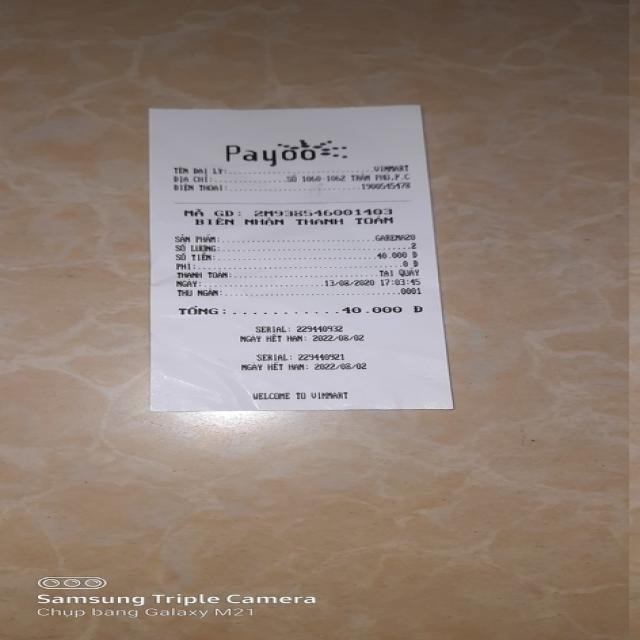Date: (322, 279, 377, 287)
Store_Name: (215, 141, 328, 168)
amount_number: (339, 304, 404, 314)
label_total: (174, 305, 220, 316)
